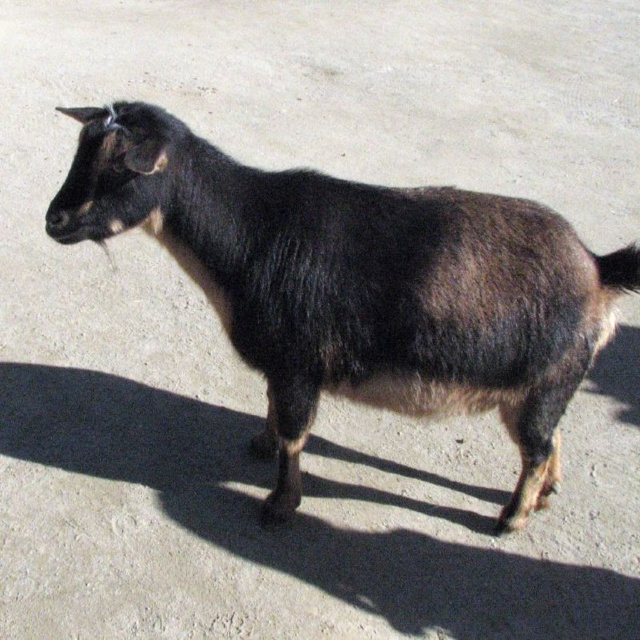Goat: (44, 102, 639, 540)
